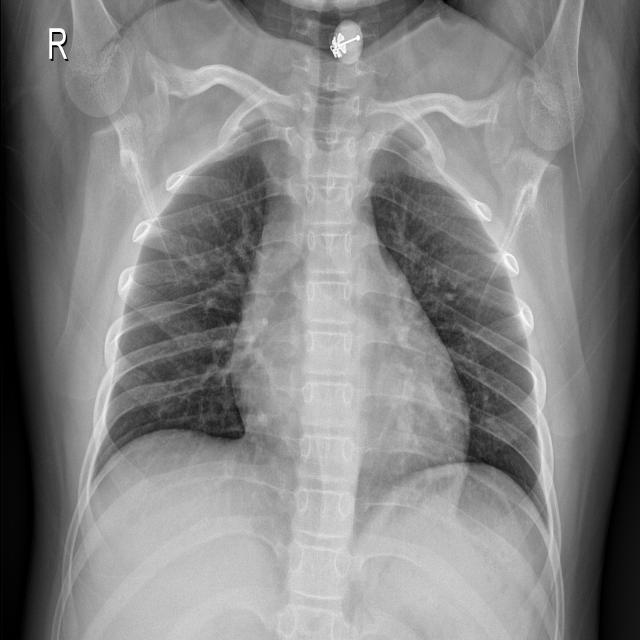no-pneumonia: (372, 151, 548, 517), (95, 147, 288, 473)
